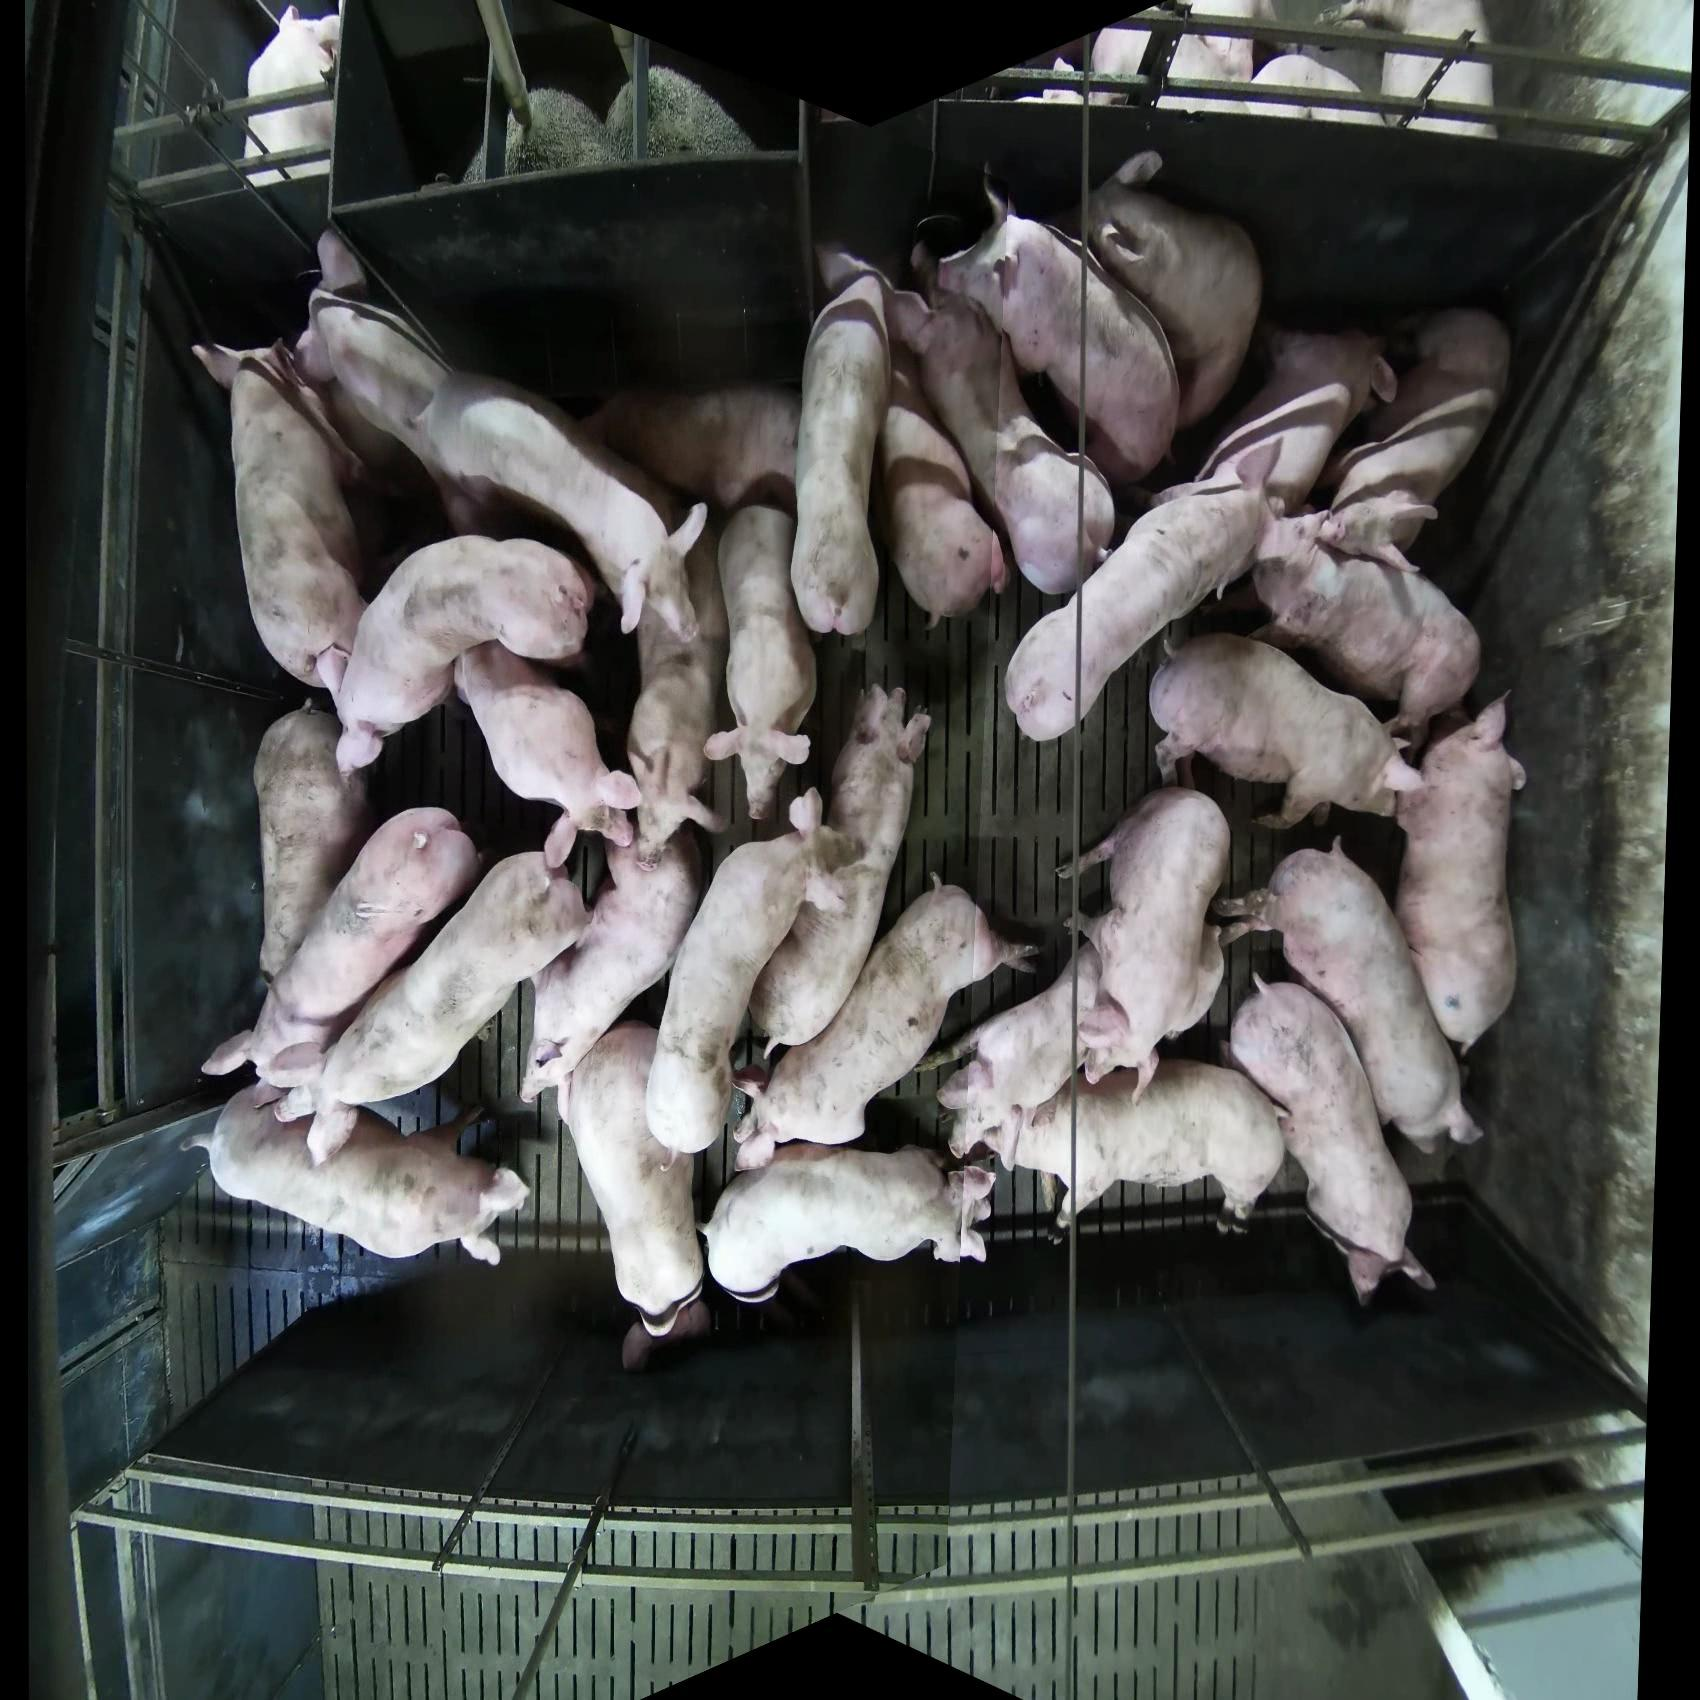pig: (260, 848, 593, 1168), (416, 327, 718, 663), (1214, 836, 1484, 1157), (198, 805, 484, 1090), (635, 785, 845, 1158), (1004, 472, 1275, 746), (954, 167, 1172, 497), (1227, 968, 1437, 1308), (198, 322, 391, 691), (185, 1080, 532, 1269), (328, 532, 595, 775), (529, 528, 739, 824), (1233, 504, 1480, 743), (1055, 785, 1235, 1105), (1146, 632, 1426, 831), (520, 817, 718, 1096), (1082, 146, 1264, 445), (908, 276, 1066, 604), (1392, 690, 1529, 1054), (1006, 1059, 1287, 1235), (799, 615, 908, 1062), (305, 269, 508, 508), (701, 1144, 996, 1303), (557, 1021, 708, 1328), (1175, 322, 1393, 528), (1322, 310, 1510, 534), (251, 701, 377, 985), (792, 274, 884, 634), (948, 945, 1098, 1161), (590, 383, 803, 525), (1325, 2, 1498, 139), (886, 420, 995, 620), (241, 3, 344, 188), (1130, 2, 1275, 115), (1063, 782, 1208, 895), (277, 223, 372, 395), (604, 64, 758, 163), (816, 254, 925, 378), (465, 89, 612, 181), (1389, 308, 1509, 405), (1244, 51, 1372, 126), (950, 884, 1037, 985), (1076, 26, 1157, 103), (813, 240, 883, 308), (314, 227, 367, 307), (1024, 65, 1118, 104), (458, 117, 497, 184)
